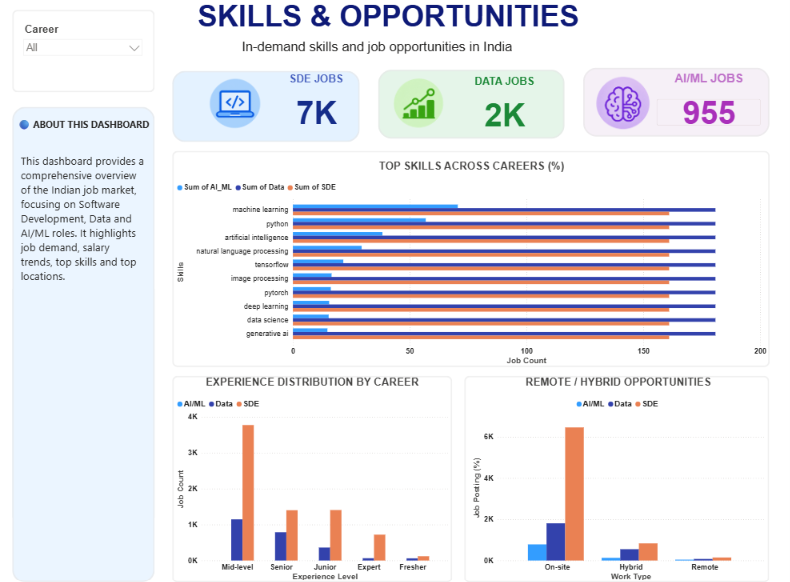

This screenshot's page, from the dashboard's own definition file:
{"tool":"powerbi","page":{"name":"Page 3","canvas":[1600,1200],"ordinal":2},"visuals":[{"type":"textbox","box":[387.5,0,780,80],"z":0},{"type":"textbox","box":[480,80,567.5,55],"z":1000},{"type":"cardVisual","title":"SDE JOBS","fields":{"Data":["Sum(Career Summary.Job_Count)"]},"box":[512.5,152.5,244,122],"z":2000},{"type":"image","box":[387.5,160,167.5,107.5],"z":3000},{"type":"cardVisual","title":"DATA JOBS","fields":{"Data":["Sum(Career Summary.Job_Count)"]},"box":[887.5,155,245,122.5],"z":4000},{"type":"shape","box":[757.5,145,372.5,137.5],"z":5000},{"type":"image","box":[777.5,150,123.3,128.3],"z":6000},{"type":"image","box":[1187.5,147.5,120,128.3],"z":7000},{"type":"cardVisual","title":"AI/ML JOBS","fields":{"Data":["Sum(Career Summary.Job_Count)"]},"box":[1297.5,150,242.5,125],"z":8000},{"type":"shape","box":[345,147.5,375,142.5],"z":9000},{"type":"shape","box":[1167.5,142.5,372.5,137.5],"z":10000},{"type":"clusteredBarChart","title":"TOP SKILLS ACROSS CAREERS (%)","fields":{"Category":["AI ML Top 10.Skill"],"Y":["Sum(AI ML Top 10.AI_ML)","Sum(Data Top 10.Data)","Sum(SDE Top 10.SDE)"]},"box":[350,325,1190,415],"z":11000},{"type":"shape","box":[345,307.5,1195,432.5],"z":12000},{"type":"clusteredColumnChart","title":"EXPERIENCE DISTRIBUTION BY CAREER","fields":{"Category":["Experience Distribution.experience_level"],"Series":["Experience Distribution.Career"],"Y":["Sum(Experience Distribution.Job_Count)"]},"box":[350,757.5,552.5,415],"z":13000},{"type":"shape","box":[345,757.5,560,415],"z":14000},{"type":"clusteredColumnChart","title":"REMOTE / HYBRID OPPORTUNITIES","fields":{"Category":["Work Type.Work_Type"],"Series":["Work Type.Career"],"Y":["Sum(Work Type.Job_Count)"]},"box":[942.5,757.5,592.5,415],"z":15000},{"type":"shape","box":[930,757.5,610,415],"z":16000},{"type":"slicer","fields":{"Values":["Career Summary.Career"]},"box":[37.5,47.5,257.8,103.3],"z":16001},{"type":"shape","box":[25,25,285,165],"z":16002},{"type":"shape","box":[25,220,285,952.5],"z":16003},{"type":"textbox","box":[32.5,237.5,317.5,40],"z":16004},{"type":"textbox","box":[37.5,307.5,257.5,552.5],"z":16005}]}

Visuals, with their boxes in screenshot pixels (x1, y1, x2, y2), scaled from the page's 1600x1200 canvas onto the 790x582 screenshot:
textbox: (x1=191, y1=0, x2=576, y2=39)
textbox: (x1=237, y1=39, x2=517, y2=65)
"SDE JOBS" cardVisual: (x1=253, y1=74, x2=374, y2=133)
image: (x1=191, y1=78, x2=274, y2=130)
"DATA JOBS" cardVisual: (x1=438, y1=75, x2=559, y2=135)
shape: (x1=374, y1=70, x2=558, y2=137)
image: (x1=384, y1=73, x2=445, y2=135)
image: (x1=586, y1=72, x2=646, y2=134)
"AI/ML JOBS" cardVisual: (x1=641, y1=73, x2=760, y2=133)
shape: (x1=170, y1=72, x2=356, y2=141)
shape: (x1=576, y1=69, x2=760, y2=136)
"TOP SKILLS ACROSS CAREERS (%)" clusteredBarChart: (x1=173, y1=158, x2=760, y2=359)
shape: (x1=170, y1=149, x2=760, y2=359)
"EXPERIENCE DISTRIBUTION BY CAREER" clusteredColumnChart: (x1=173, y1=367, x2=446, y2=569)
shape: (x1=170, y1=367, x2=447, y2=569)
"REMOTE / HYBRID OPPORTUNITIES" clusteredColumnChart: (x1=465, y1=367, x2=758, y2=569)
shape: (x1=459, y1=367, x2=760, y2=569)
slicer - Career Summary.Career: (x1=19, y1=23, x2=146, y2=73)
shape: (x1=12, y1=12, x2=153, y2=92)
shape: (x1=12, y1=107, x2=153, y2=569)
textbox: (x1=16, y1=115, x2=173, y2=135)
textbox: (x1=19, y1=149, x2=146, y2=417)
